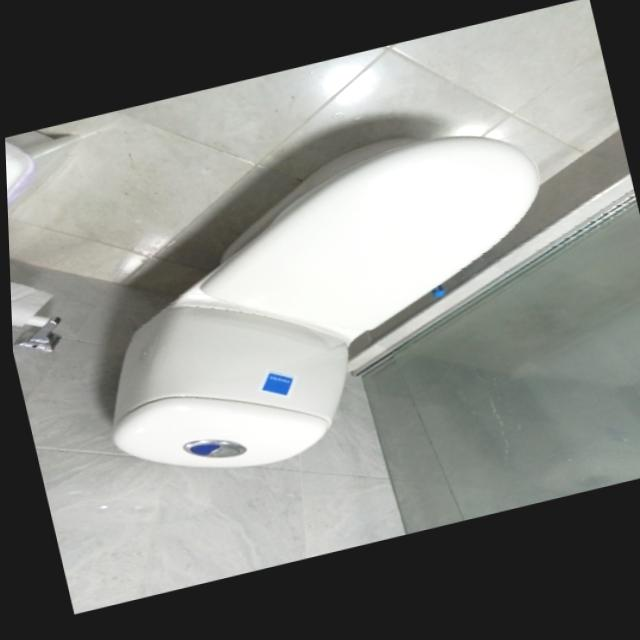toilet: (57, 108, 590, 503)
